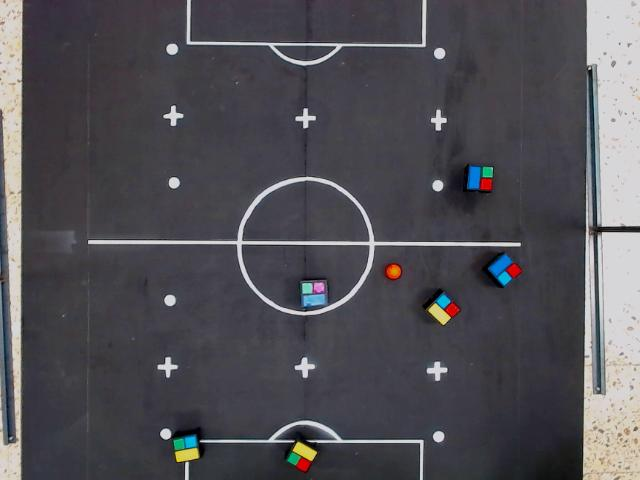robot: (487, 251, 524, 291), (424, 291, 463, 328), (284, 439, 320, 475), (298, 278, 331, 310), (170, 433, 202, 465), (465, 163, 497, 193)
